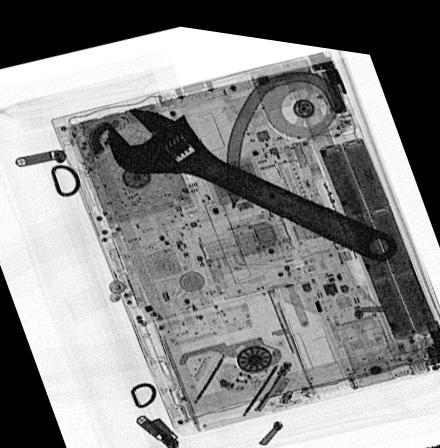Wrench: (106, 102, 398, 248)
